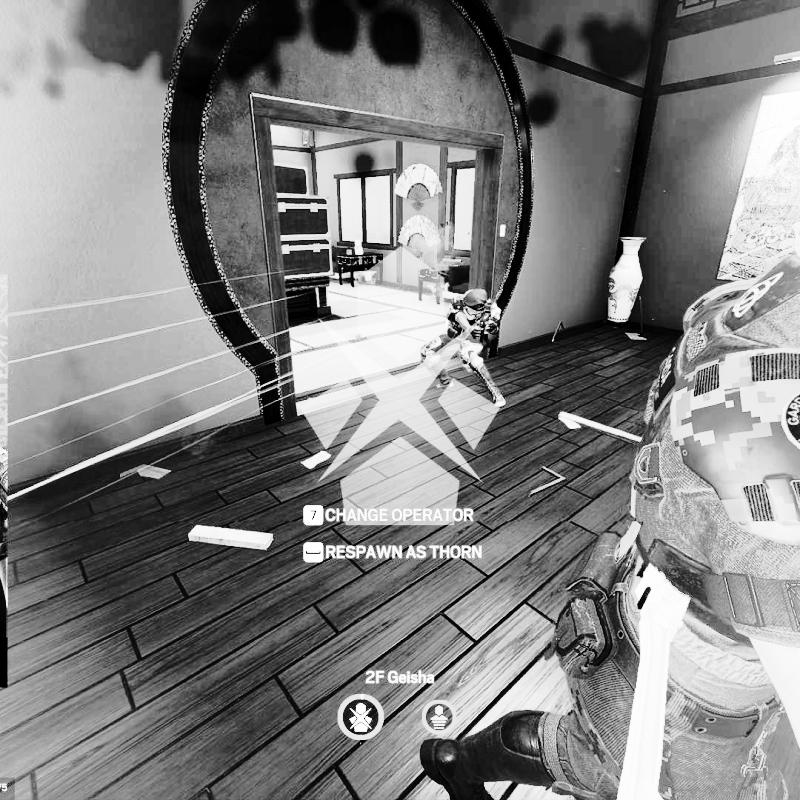Character: (422, 226, 799, 800), (416, 284, 510, 415)
Head: (459, 289, 490, 318)
